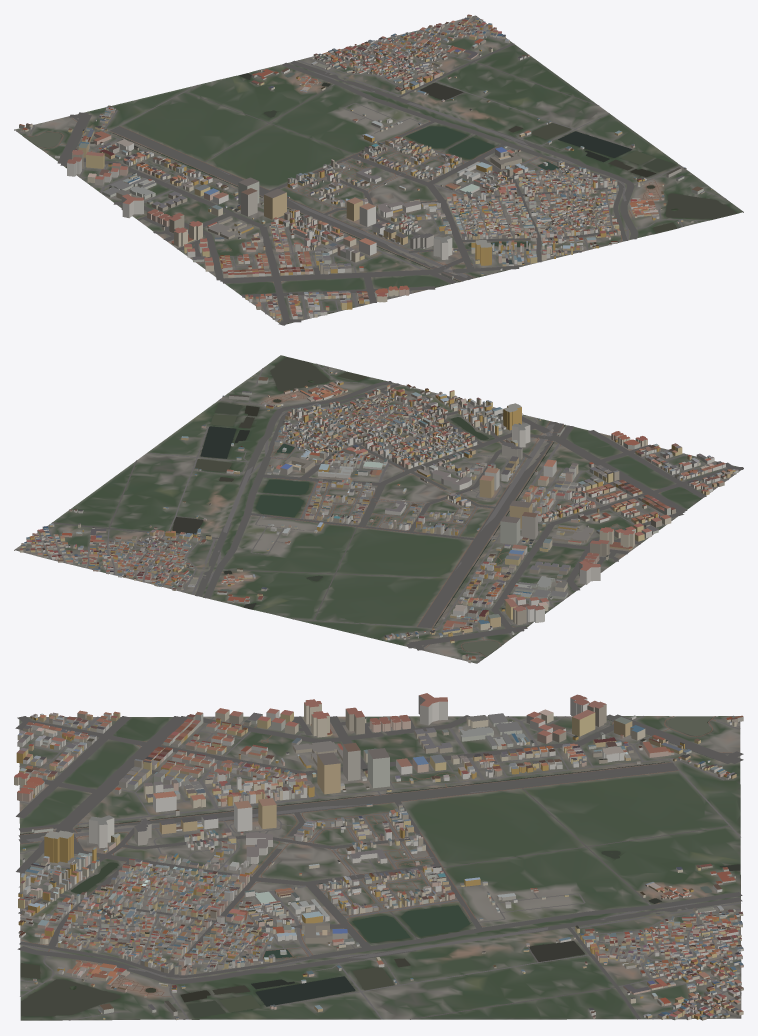
The picture shows the model from 3 angles, top to bottom: view 1: azimuth 30°, elevation 25°; view 2: azimuth 150°, elevation 25°; view 3: azimuth 270°, elevation 25°; orthographic projection. The views are drawn at different scales.
Parts seen in each view (by area): view 1: ground, buildings, roads, water; view 2: ground, buildings, roads, water; view 3: ground, buildings, roads, water.
Part boxes in pixels (<box>): ground: <box>14,15,743,324</box>; buildings: <box>19,14,712,321</box>; roads: <box>14,16,725,325</box>; water: <box>25,72,736,281</box>; ground: <box>14,355,743,663</box>; buildings: <box>19,367,738,663</box>; roads: <box>15,363,743,663</box>; water: <box>172,357,565,656</box>; ground: <box>19,716,741,1020</box>; buildings: <box>14,693,743,1020</box>; roads: <box>15,714,743,1020</box>; water: <box>20,716,740,1017</box>.
Bounding box in the file's own units: 1428 × 66.78 × 1420.
